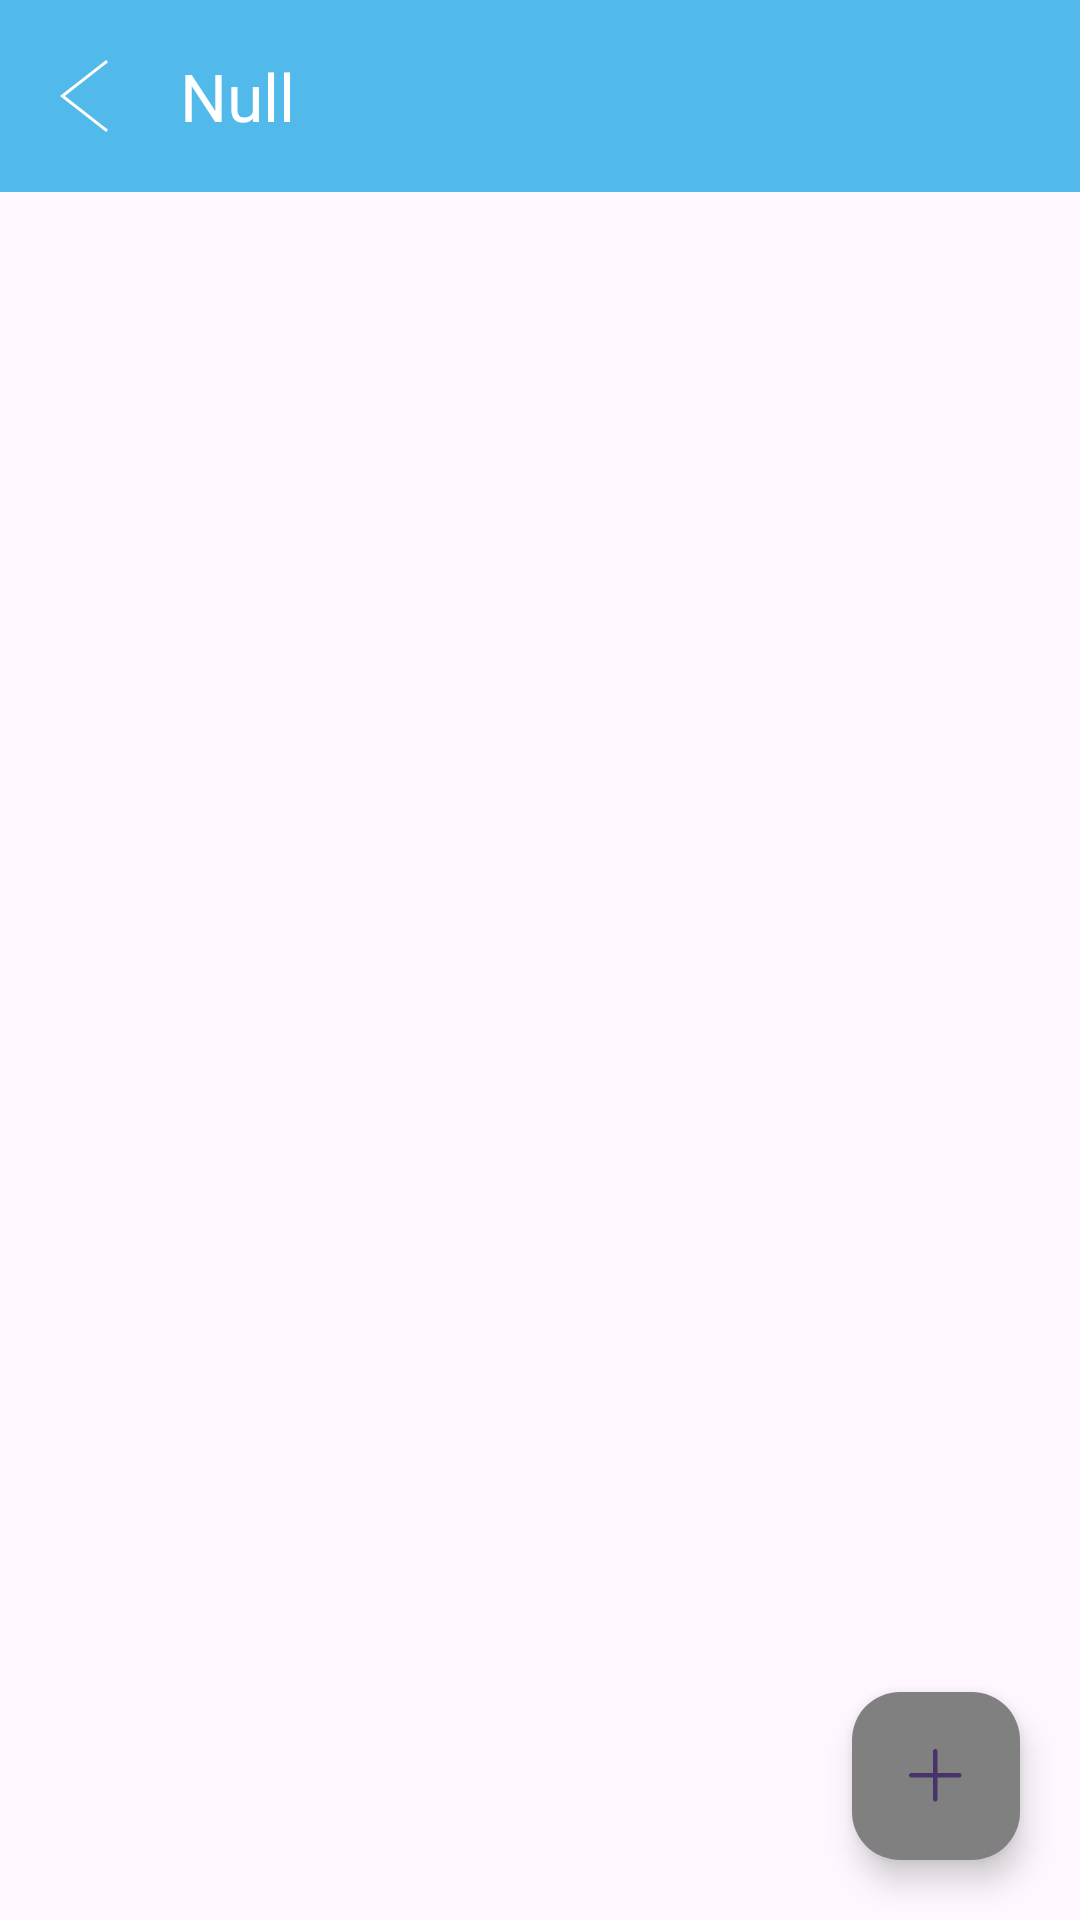

Point at icon controls on the screen. Image size 1080 × 1920, points as [x,y].
Add A New Type: [936,1776]
